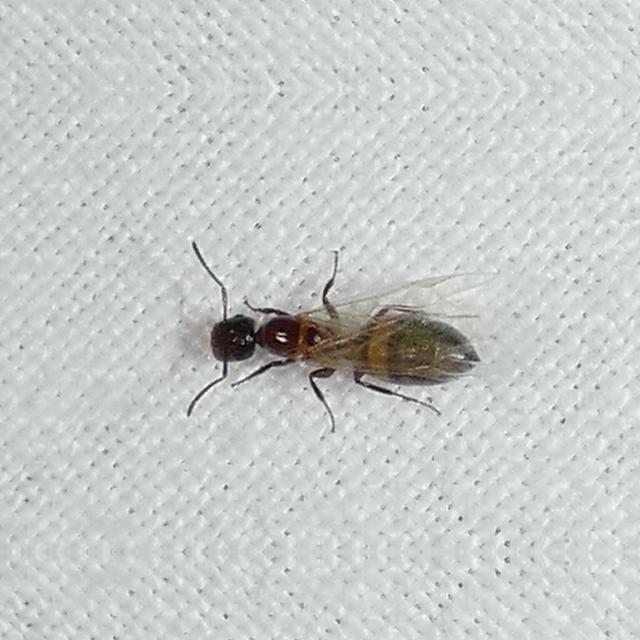Colobopsis: (176, 267, 504, 411)
